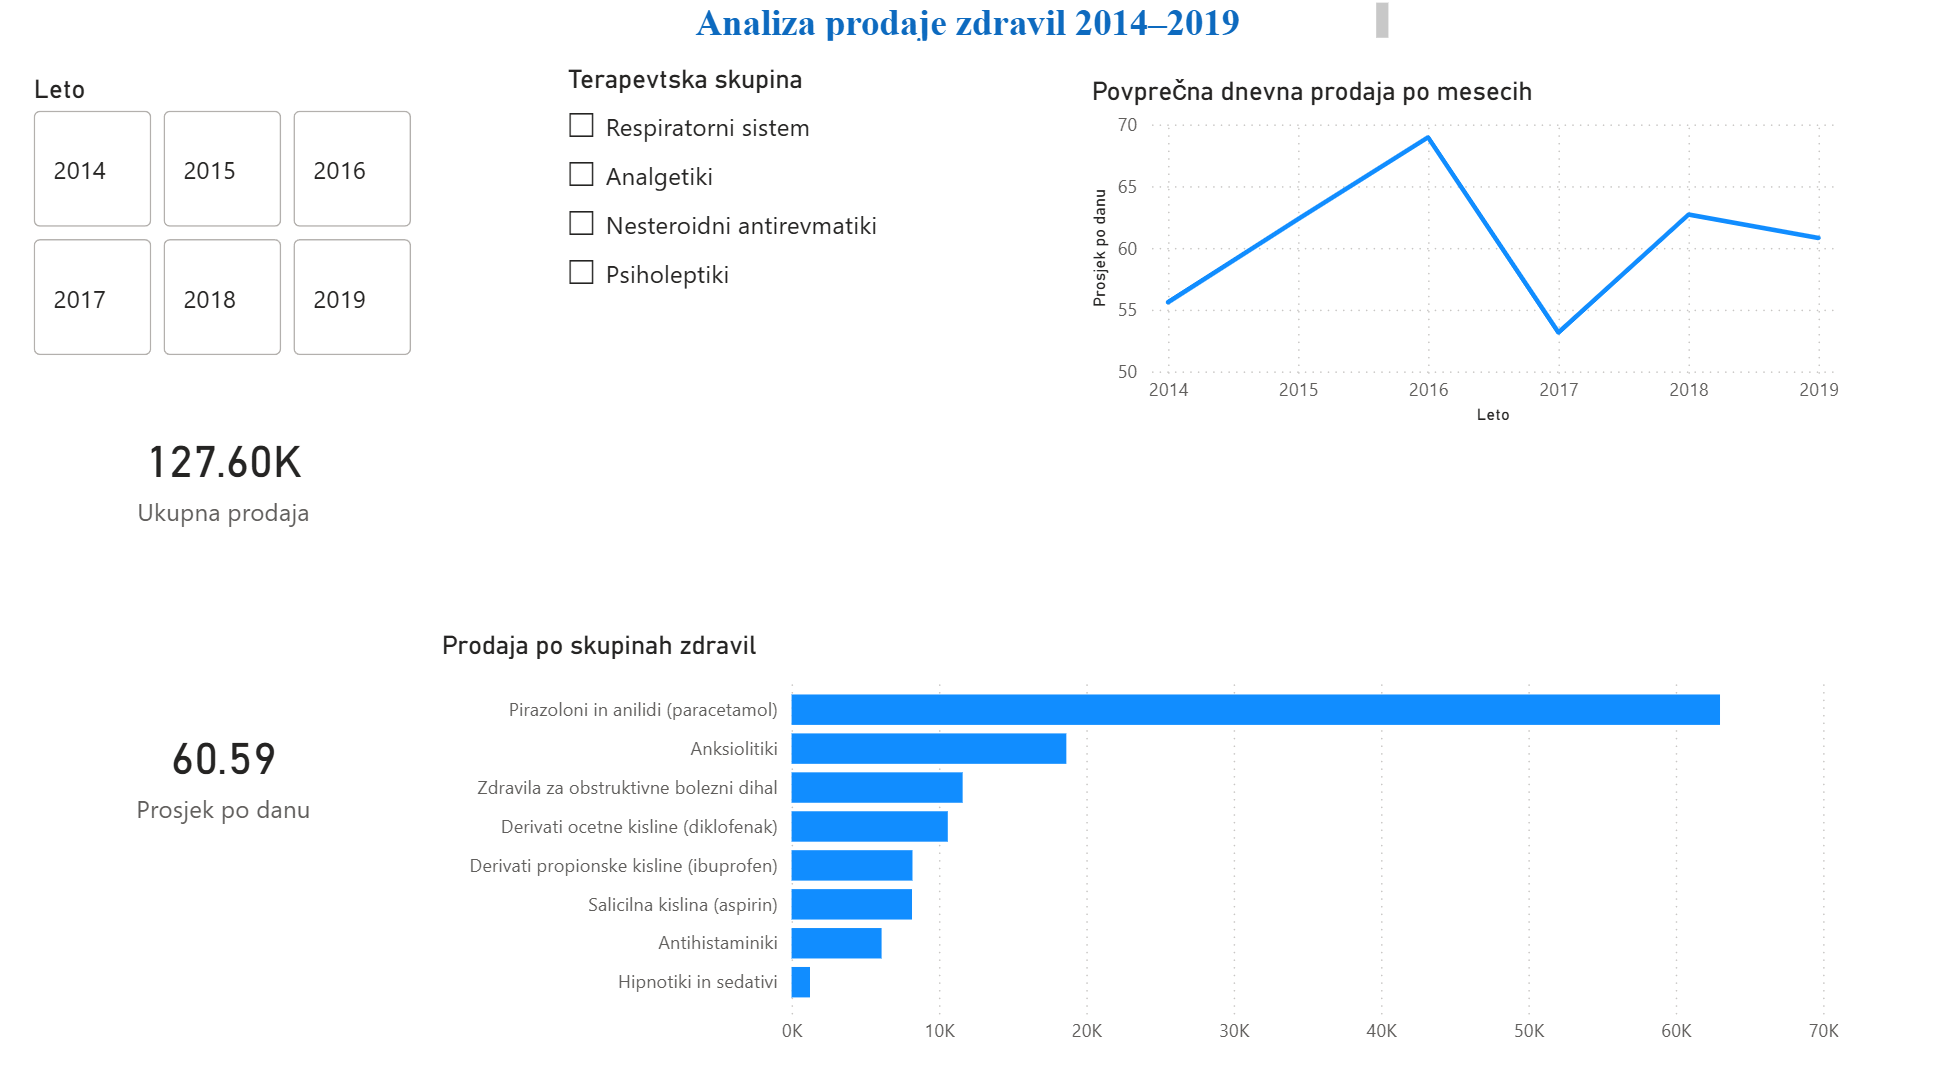

What the dashboard file says about the page in this screenshot:
{"tool":"powerbi","page":{"name":"Pregled prodaje","canvas":[1280,720],"ordinal":0},"visuals":[{"type":"card","fields":{"Values":["dw fact_sales.Ukupna prodaja"]},"box":[48.4,272.9,200.9,81.8],"z":0},{"type":"card","fields":{"Values":["dw fact_sales.Prosjek po danu"]},"box":[48.4,468.5,200.9,79.2],"z":1},{"type":"clusteredBarChart","title":"Prodaja po skupinah zdravil","fields":{"Category":["dw dim_atc.atc_name"],"Y":["dw fact_sales.Ukupna prodaja"]},"box":[286.6,415.5,924,280.1],"z":2},{"type":"lineChart","title":"Povprečna dnevna prodaja po mesecih","fields":{"Category":["dw dim_date.full_date.Variation.Date Hierarchy.Year","dw dim_date.full_date.Variation.Date Hierarchy.Month"],"Y":["dw fact_sales.Prosjek po danu"]},"box":[712,51.7,498.7,233.6],"z":3},{"type":"advancedSlicerVisual","title":"Leto","fields":{"Values":["dw dim_date.year"]},"box":[19.6,51.7,258.5,190.4],"z":4},{"type":"listSlicer","title":"Terapevtska skupina","fields":{"Values":["dw dim_atc.therapeutic_group"]},"box":[369.1,45.2,249.3,287.9],"z":5},{"type":"textbox","box":[363.2,0,553,35.3],"z":6}]}

Visuals, with their boxes in screenshot pixels (x1, y1, x2, y2), scaled from the page's 1280x720 canvas onto the 1947x1092 screenshot:
card - dw fact_sales.Ukupna prodaja: locate(74, 414, 379, 538)
card - dw fact_sales.Prosjek po danu: locate(74, 711, 379, 831)
"Prodaja po skupinah zdravil" clusteredBarChart: locate(436, 630, 1841, 1055)
"Povprečna dnevna prodaja po mesecih" lineChart: locate(1083, 78, 1842, 433)
"Leto" advancedSlicerVisual: locate(30, 78, 423, 367)
"Terapevtska skupina" listSlicer: locate(561, 69, 941, 505)
textbox: locate(552, 0, 1394, 54)
